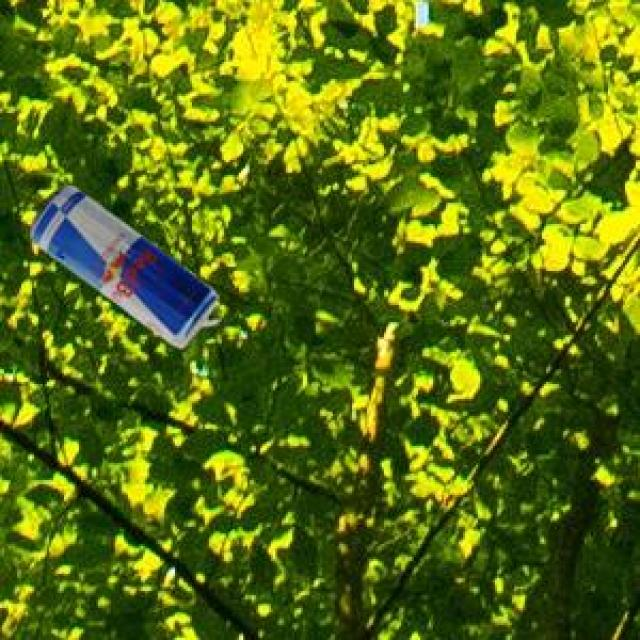logam: (29, 182, 217, 345)
